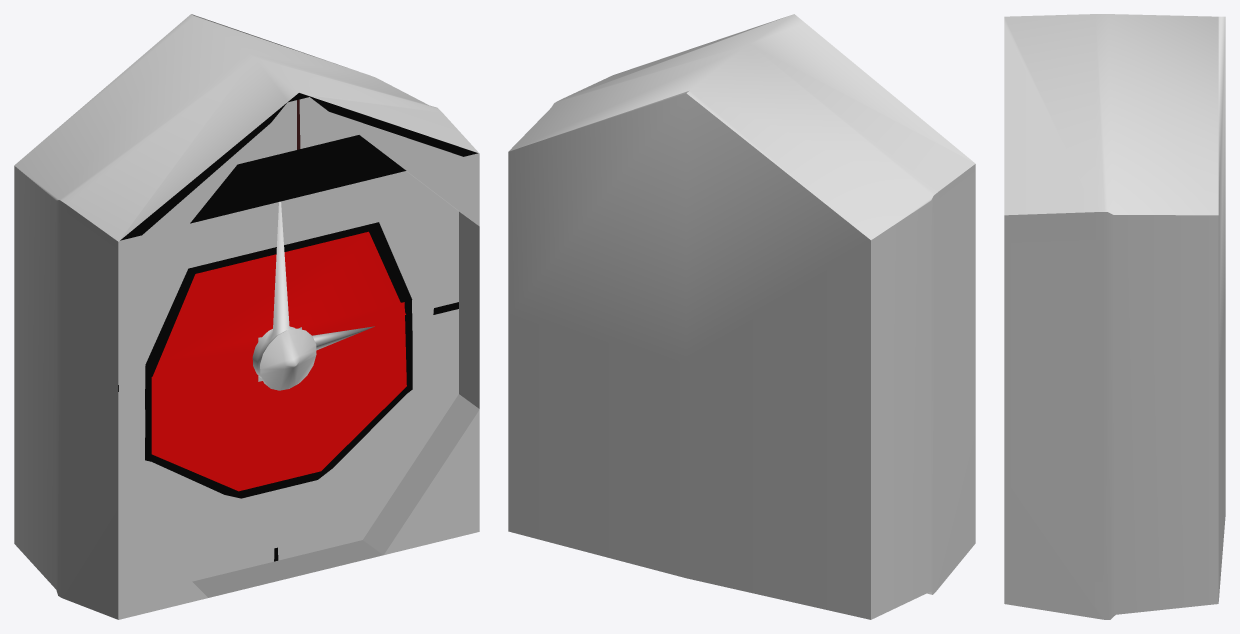
File: home clock.FBX
3 views of the same model, side by side, from view 1: azimuth 30°, elevation 25°; view 2: azimuth 150°, elevation 25°; view 3: azimuth 270°, elevation 25° (orthographic). The views are drawn at different scales.
Visible parts, largest first — view 1: Box001, Cylinder001; view 2: Box001; view 3: Box001.
Part boxes in pixels (x1,y1,x2,y2): Box001: [14, 14, 479, 619]; Cylinder001: [252, 201, 374, 390]; Box001: [508, 14, 975, 619]; Box001: [1004, 14, 1225, 619].
Bounding box in the file's own units: 20.95 × 26.3 × 10.33.
